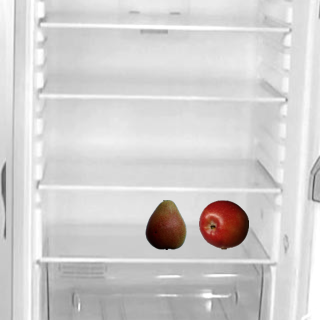Apple Braeburn: (198, 199, 248, 249)
Pear Forelle: (140, 199, 190, 249)
